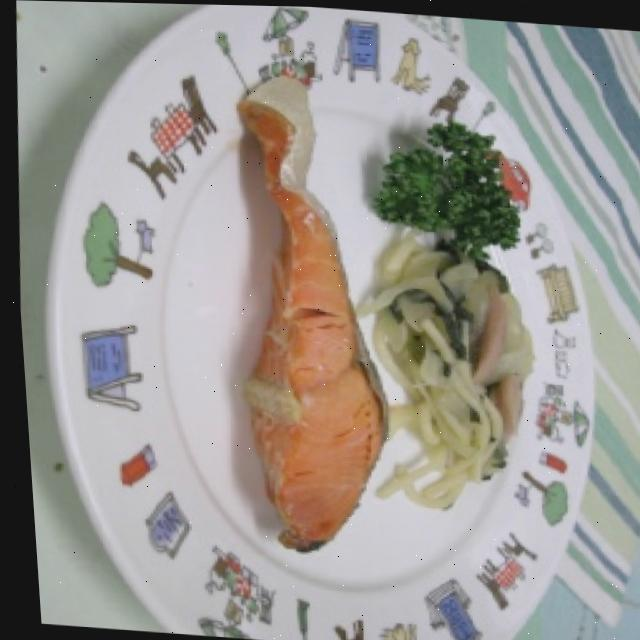熟制海鲜: (182, 50, 417, 579)
